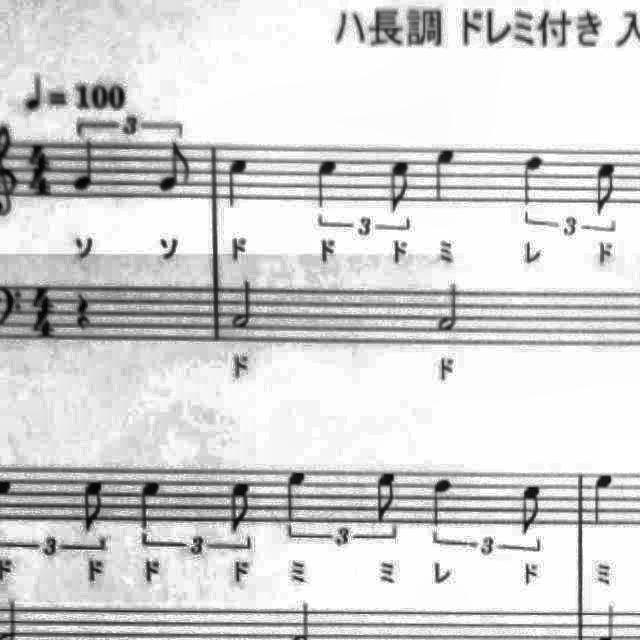Eighth-note: (156, 136, 200, 197), (383, 154, 421, 220), (587, 154, 625, 220), (76, 472, 112, 538), (368, 464, 404, 528), (220, 474, 256, 536), (514, 480, 550, 540)
Half-note: (430, 274, 466, 334), (226, 274, 260, 334)
Quarter-note: (515, 147, 551, 213), (428, 142, 464, 206), (278, 464, 314, 528), (586, 468, 622, 532), (310, 151, 346, 213), (132, 473, 166, 535), (222, 152, 256, 214), (426, 470, 460, 530), (70, 138, 102, 196)
Quarter-rest: (67, 283, 96, 335)
